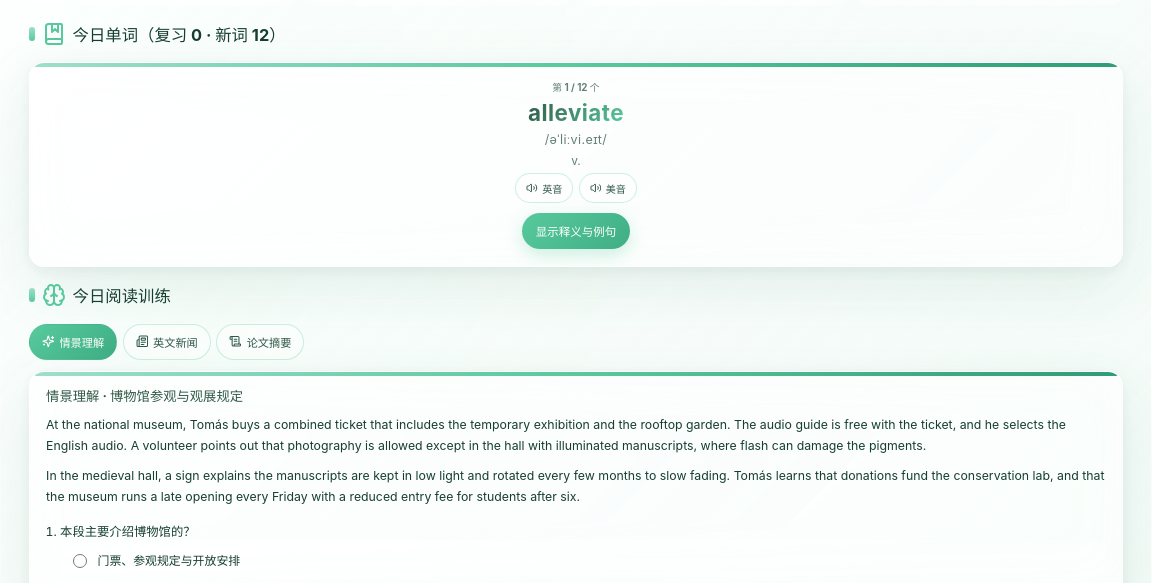
EnglishPage › reveals the full-text translation after submitting answers
Click the radio button at x=80, y=561, box [74, 554, 88, 568]
(page scrolled)
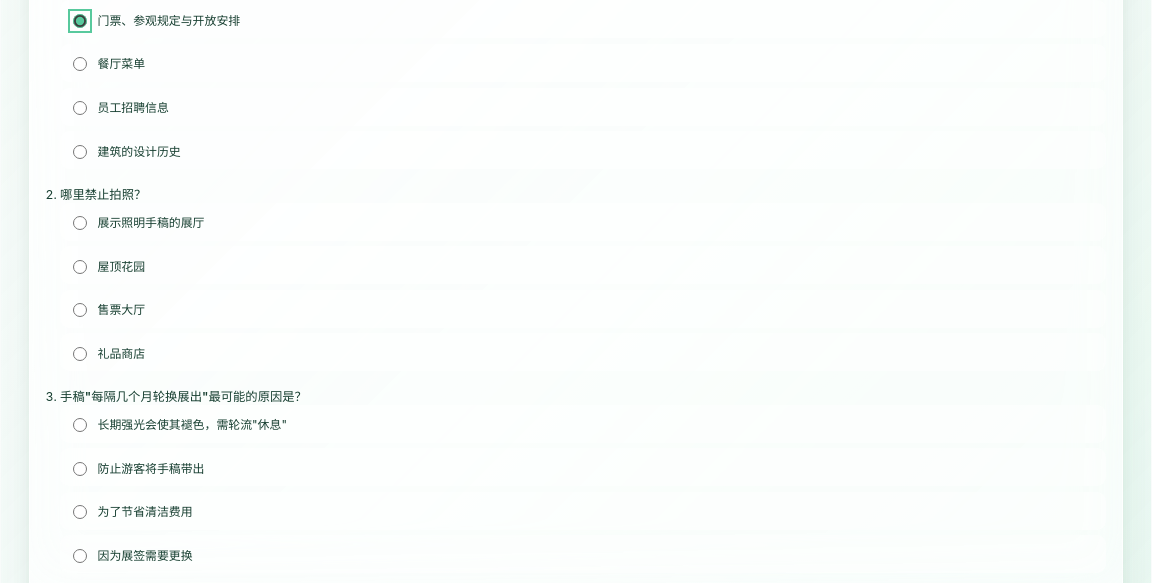
Click the radio button labelled "展示照明手稿的展厅" at x=80, y=223, box [74, 216, 88, 230]
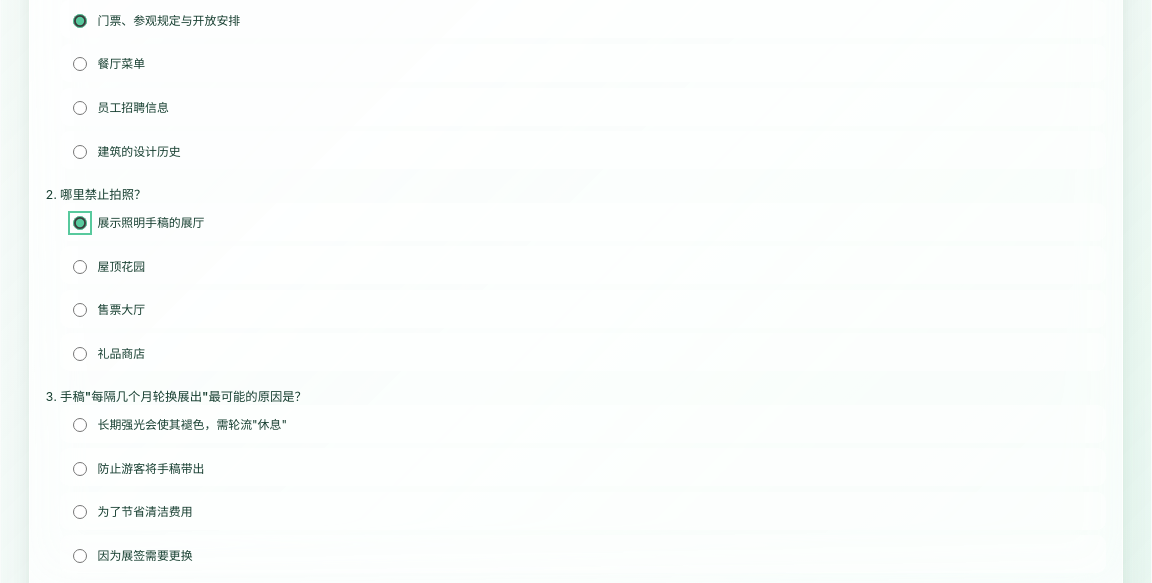
Click the radio button labelled "长期强光会使其褪色，需轮流\"休息\"" at x=80, y=425, box [74, 418, 88, 432]
(page scrolled)
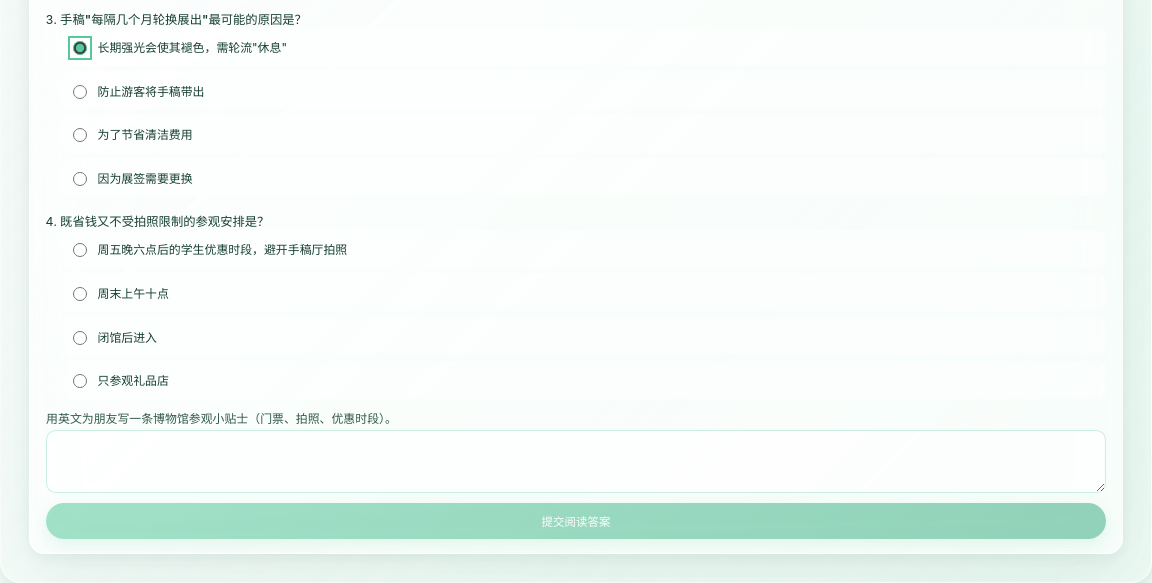
Click the radio button labelled "周五晚六点后的学生优惠时段，避开手稿厅拍照" at x=80, y=250, box [74, 243, 88, 257]
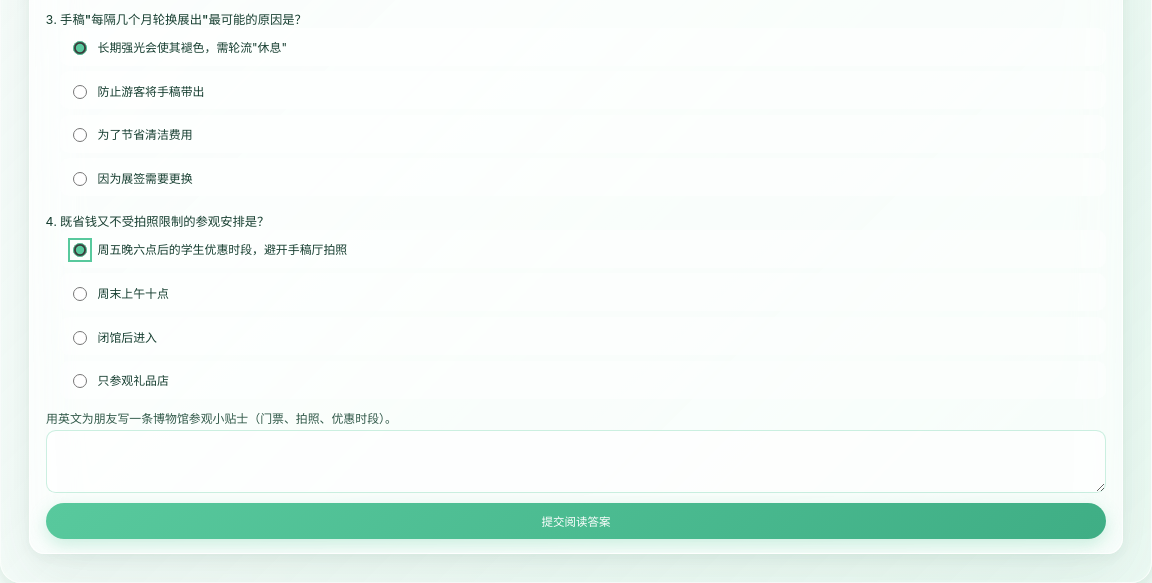
Click the button "提交阅读答案" at x=576, y=521, box [46, 503, 1106, 539]
(page scrolled)
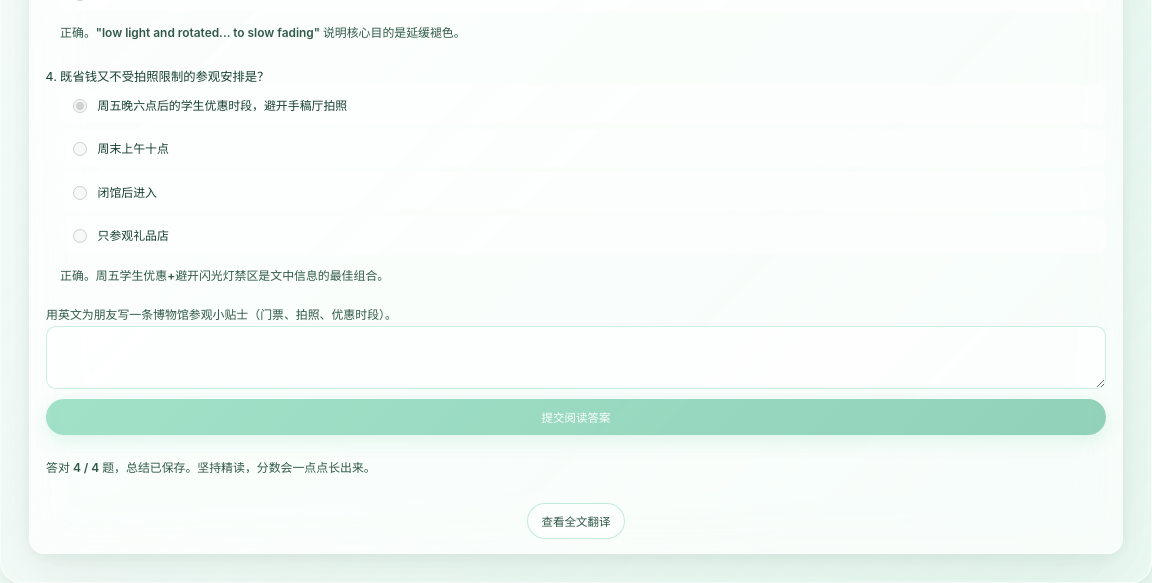
Check: the text "答对 4 / 4 题，总结已保存。坚持精读，分数会一点点长出来。" is shown, box [46, 460, 376, 475]
Click the button "查看全文翻译" at x=576, y=521, box [527, 503, 625, 539]
(page scrolled)
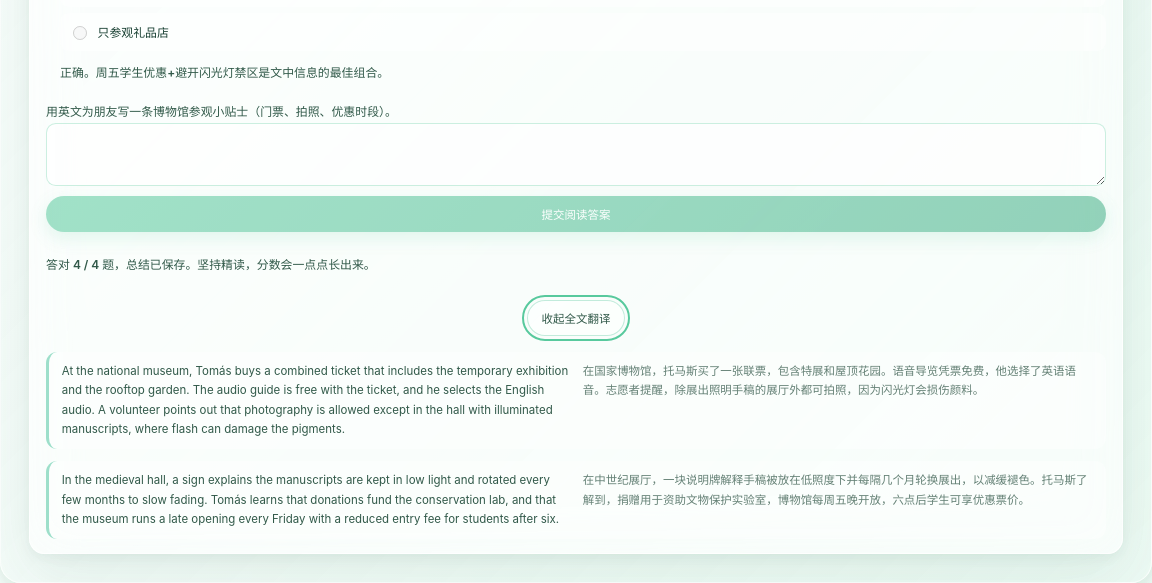
Check: the button "收起全文翻译" is shown, box [527, 300, 625, 336]
Check: the element with class "reading-translation" is shown, box [46, 352, 1106, 540]
